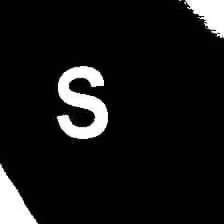LTR_S: (51, 62, 109, 139)
